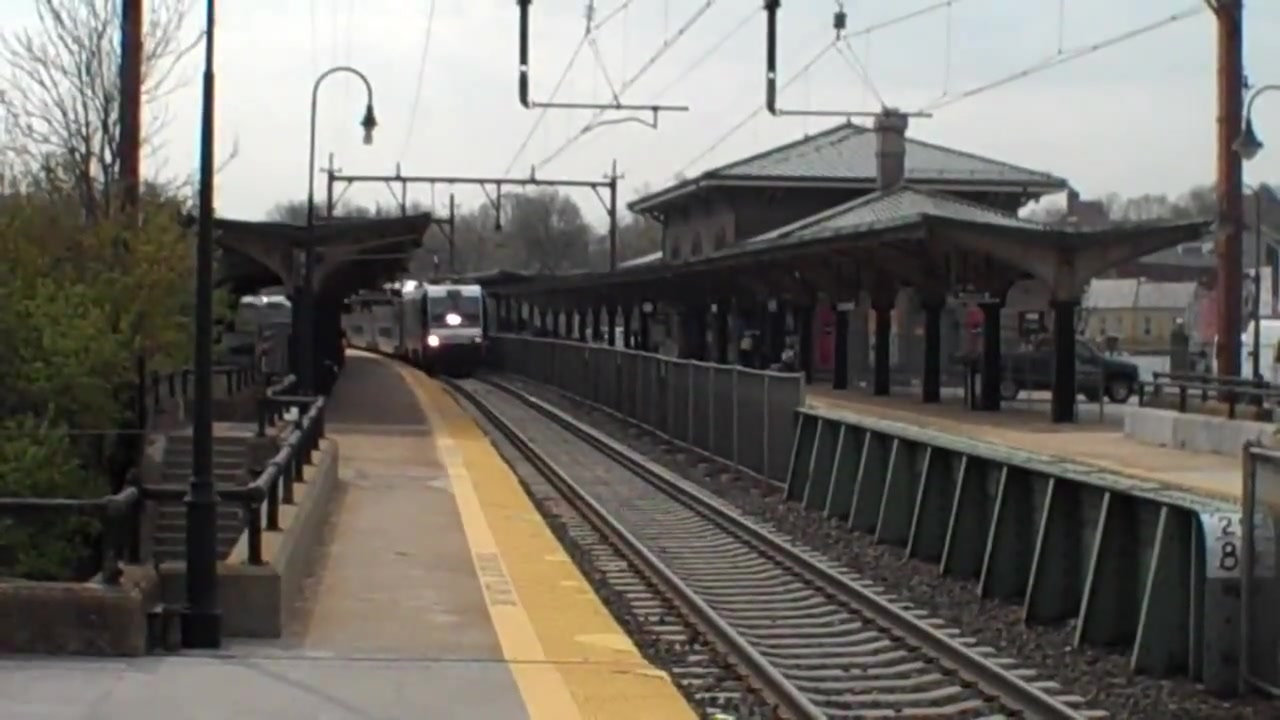train: (341, 275, 488, 361)
